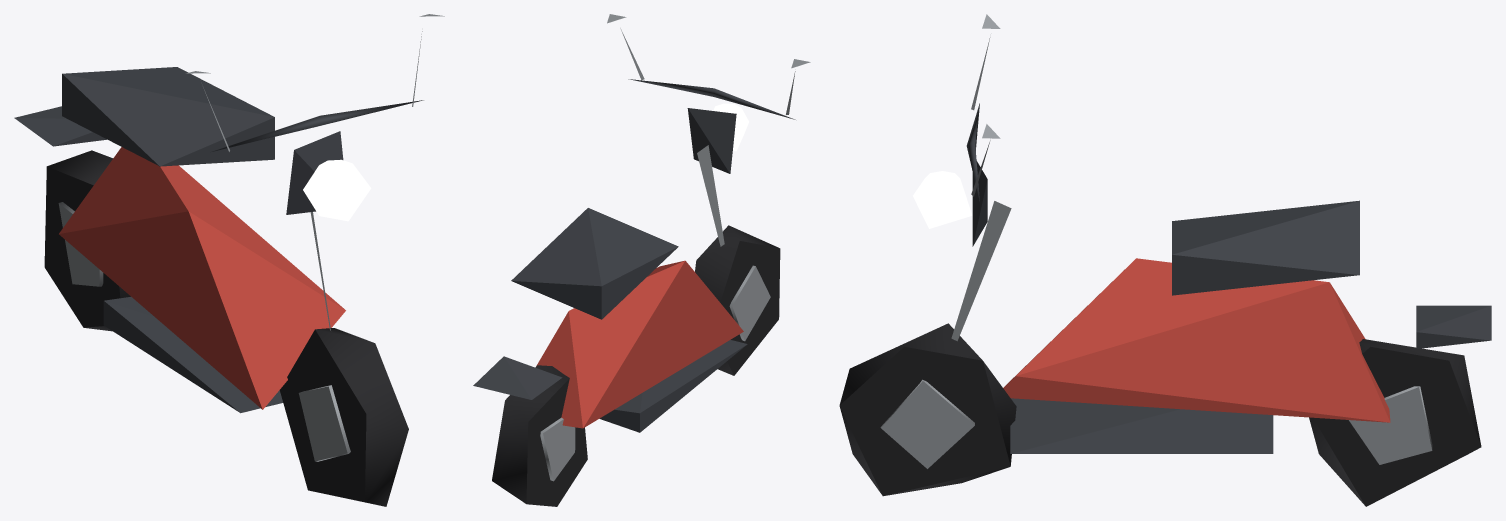
The model's file is prop_street_scooter_b_lod1.glb.
3 renders of one model, left to right at view 1: azimuth 30°, elevation 25°; view 2: azimuth 150°, elevation 25°; view 3: azimuth 270°, elevation 25°, orthographic. The views are drawn at different scales.
Visible parts, largest first — view 1: scooter_body_lod1, scooter_frame_lod1, scooter_wheels_lod1; view 2: scooter_frame_lod1, scooter_body_lod1, scooter_wheels_lod1; view 3: scooter_body_lod1, scooter_wheels_lod1, scooter_frame_lod1.
Part boxes in pixels (box(x1,y1,x2,y2)): scooter_body_lod1: box(59, 147, 345, 409); scooter_frame_lod1: box(14, 14, 444, 413); scooter_wheels_lod1: box(44, 150, 408, 506); scooter_frame_lod1: box(473, 14, 810, 432); scooter_body_lod1: box(536, 260, 743, 428); scooter_wheels_lod1: box(492, 225, 780, 506); scooter_body_lod1: box(1003, 258, 1390, 422); scooter_wheels_lod1: box(839, 323, 1481, 506); scooter_frame_lod1: box(913, 14, 1491, 453).
Size of the model in its own units: 0.76 by 1.24 by 1.73.
